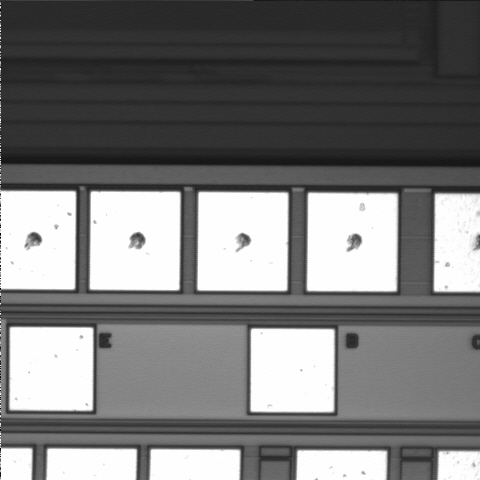pad: (198, 192, 288, 291), (90, 192, 180, 290), (307, 193, 397, 291), (10, 327, 93, 411), (251, 329, 334, 412)
